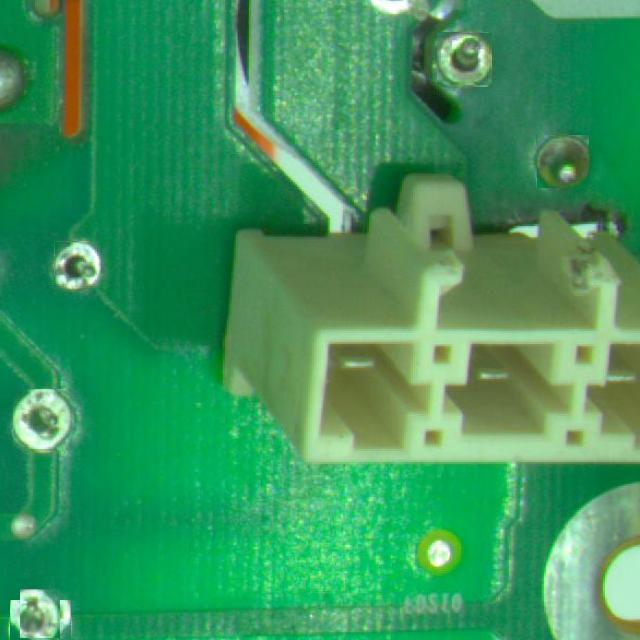oppostie_direction: (13, 390, 72, 450), (536, 135, 589, 188), (438, 33, 491, 84), (54, 241, 101, 289), (21, 589, 59, 639)
